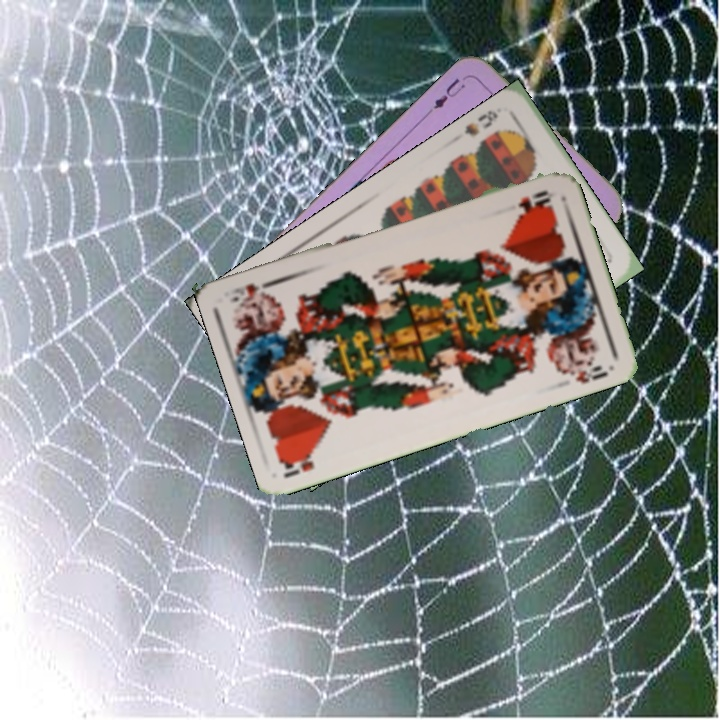EU: (429, 71, 472, 112)
HO: (277, 448, 317, 481), (513, 186, 556, 212)
S8: (460, 106, 501, 139)
